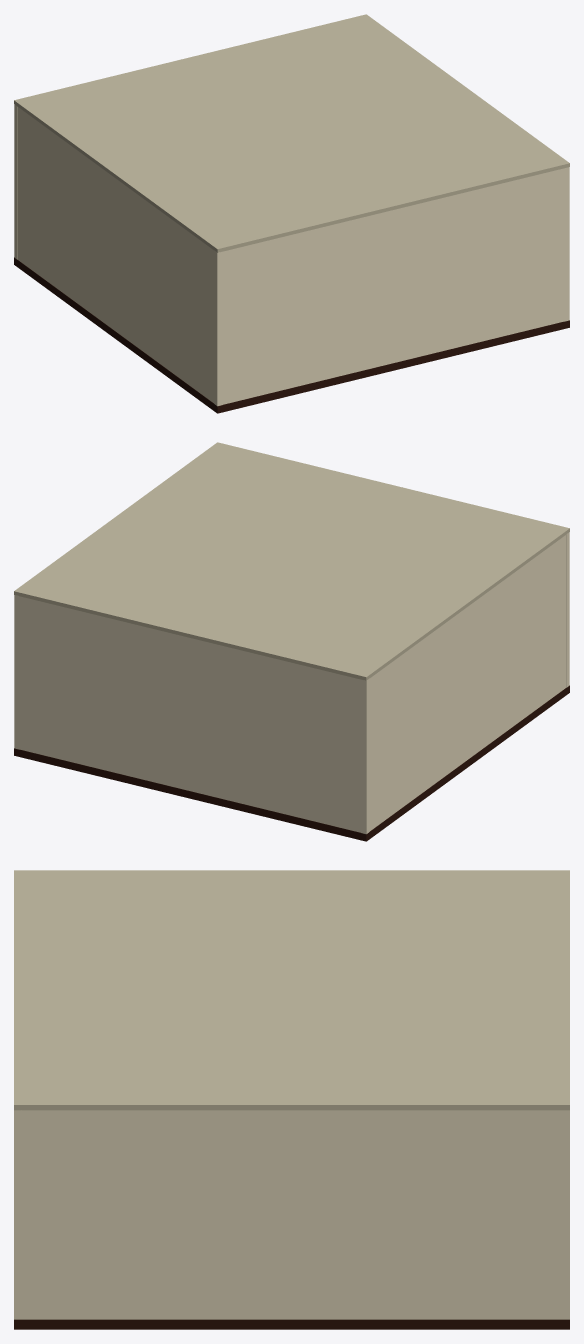
File: CasaCambio.obj
3 views of the same model, one above another, from view 1: azimuth 30°, elevation 25°; view 2: azimuth 150°, elevation 25°; view 3: azimuth 270°, elevation 25° (orthographic). The views are drawn at different scales.
Parts seen in each view (by area): view 1: plaster_1, cream_0, wood_2; view 2: plaster_1, cream_0, wood_2; view 3: cream_0, plaster_1, wood_2.
Boxes of the visible parts, x1,y1,x2,y2 form: plaster_1: (14, 104, 569, 406); cream_0: (14, 14, 569, 252); wood_2: (14, 257, 569, 413); plaster_1: (14, 532, 569, 834); cream_0: (14, 442, 569, 680); wood_2: (14, 685, 569, 841); cream_0: (14, 870, 569, 1110); plaster_1: (14, 1110, 569, 1319); wood_2: (14, 1319, 569, 1329).
Bounding box in the file's own units: 12 × 5.35 × 12.
